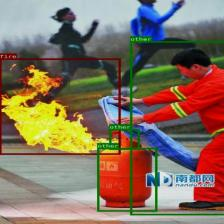fire: (0, 58, 120, 154)
